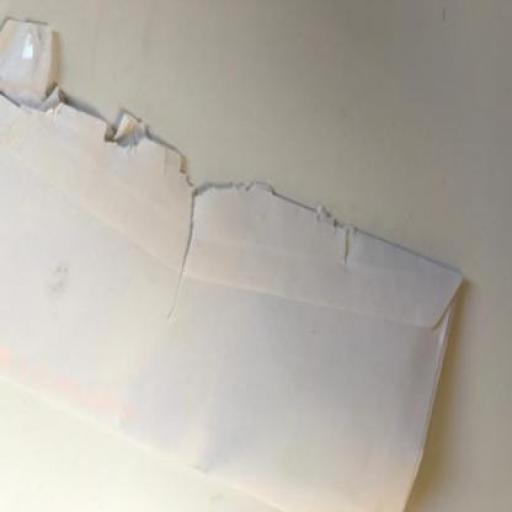paper: (0, 16, 462, 511)
